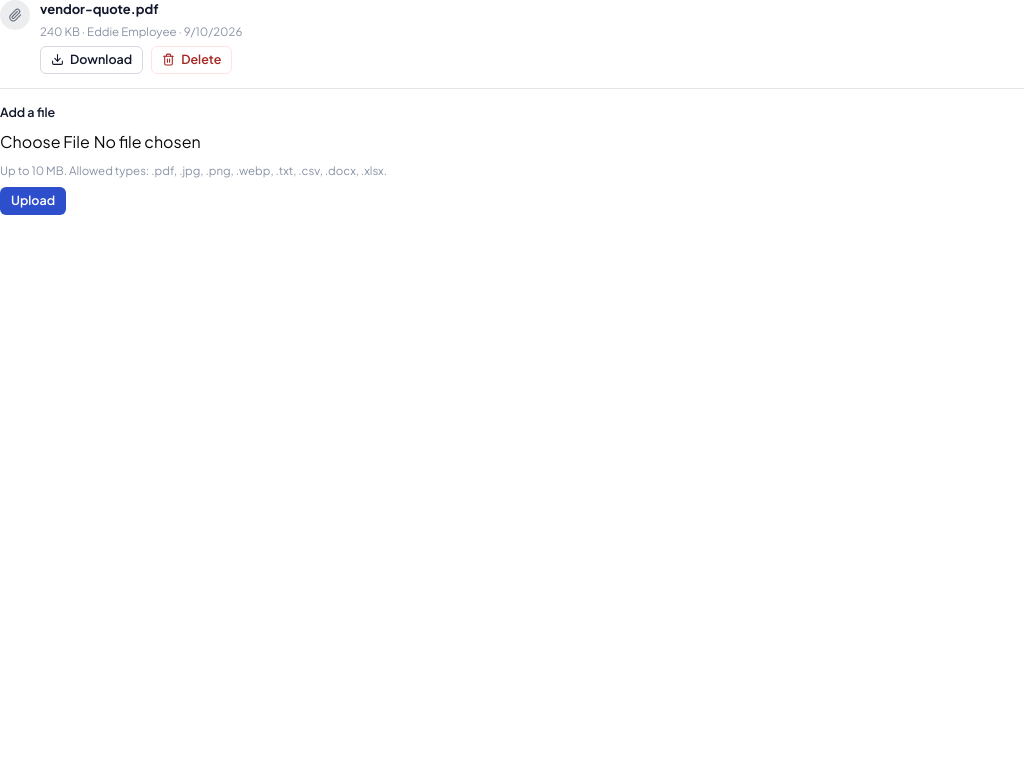
Test: AttachmentSection › deleting refreshes the list on success
The width and height of the screenshot is (1024, 768).
Expected: the text "vendor-quote.pdf" is shown, [40,0,158,20]
Click the button "Delete": (192, 60) [151,46,232,74]
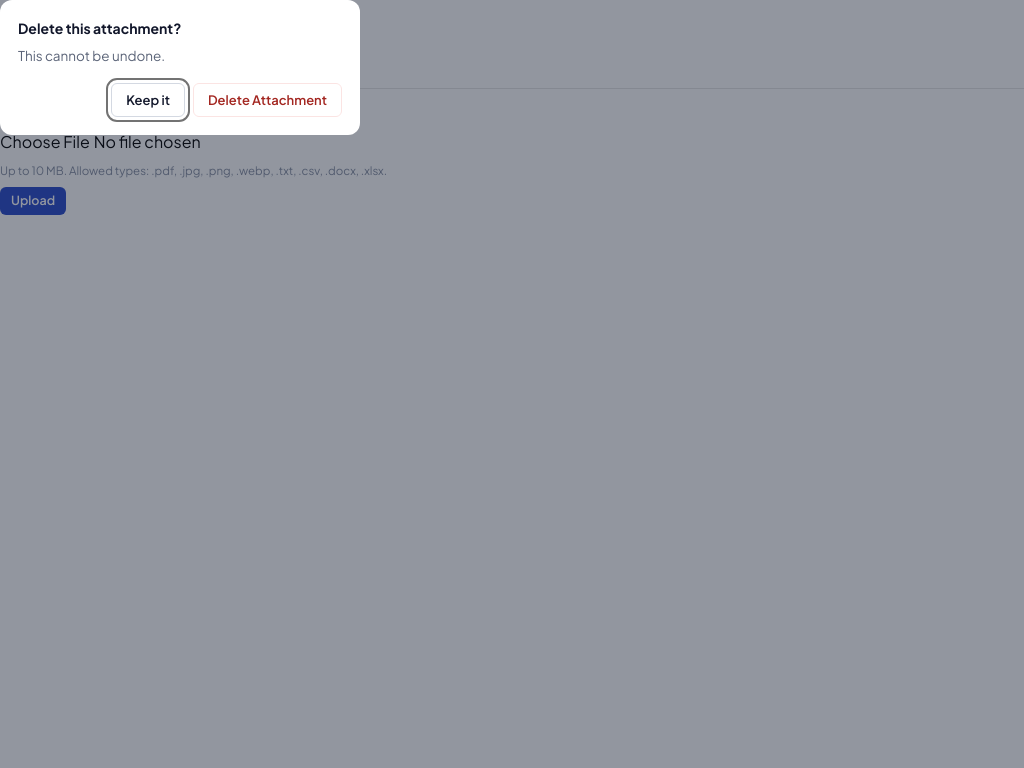
Click the button "Delete Attachment": (268, 100) [193,83,342,117]
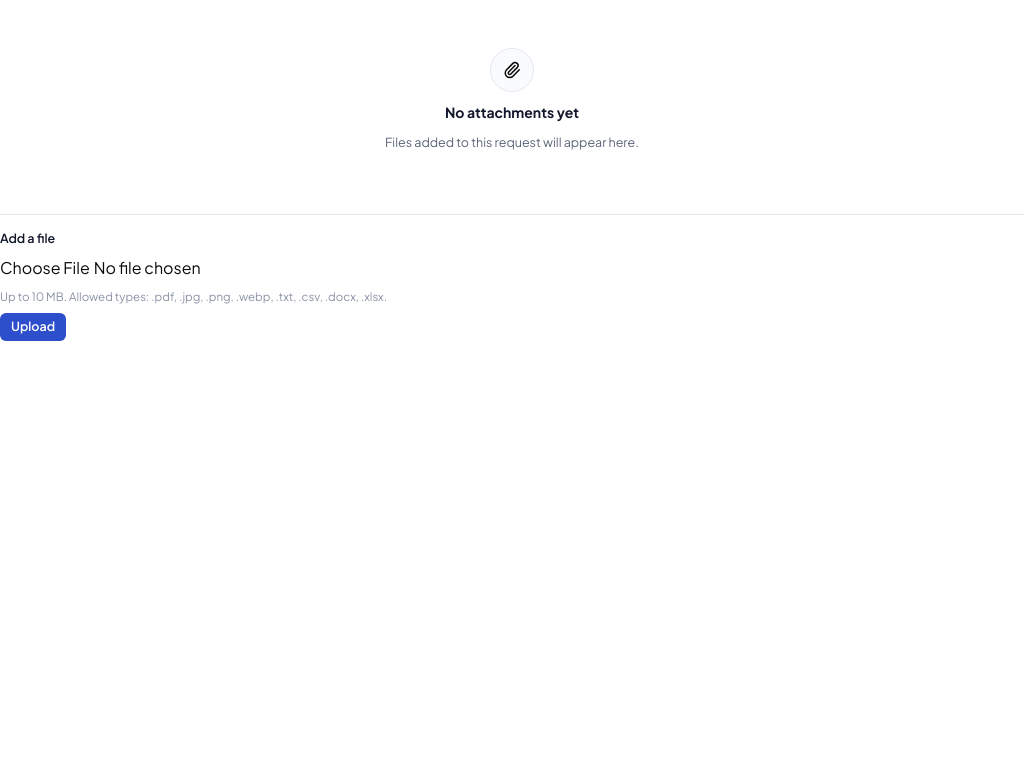
Expected: the text "No attachments yet" is shown, [445,102,579,123]
